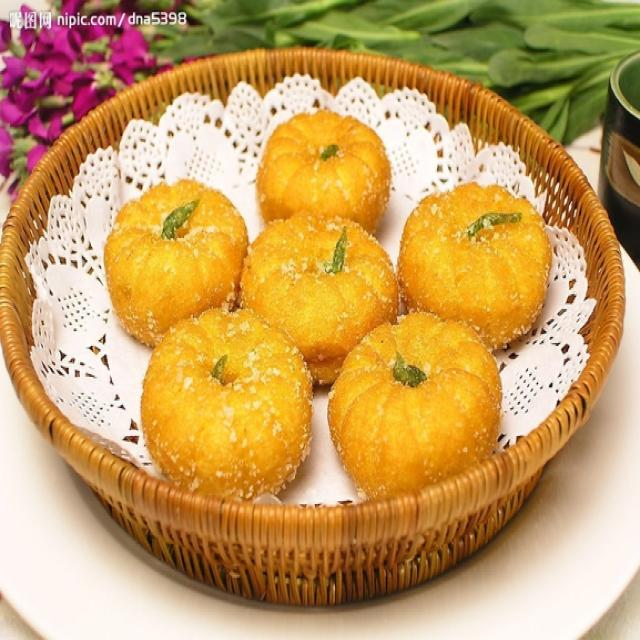炸货点心: (38, 37, 608, 591)
蛋糕甜品: (38, 37, 608, 591)
